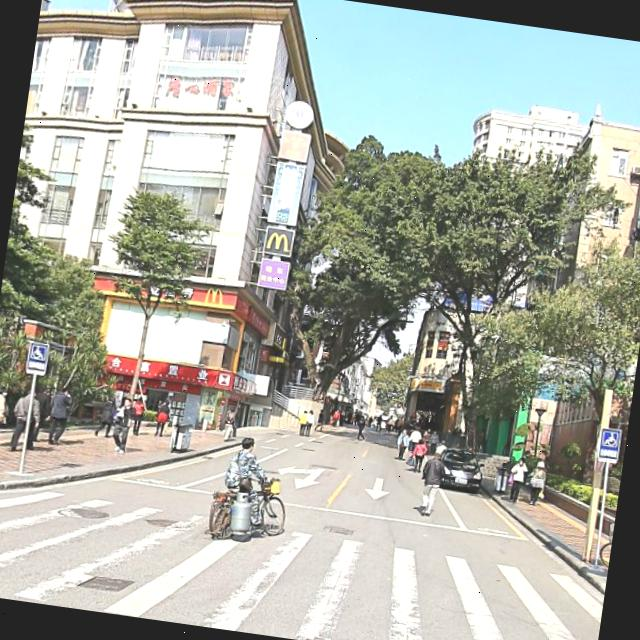curb: (483, 485, 606, 604), (0, 445, 237, 489)
